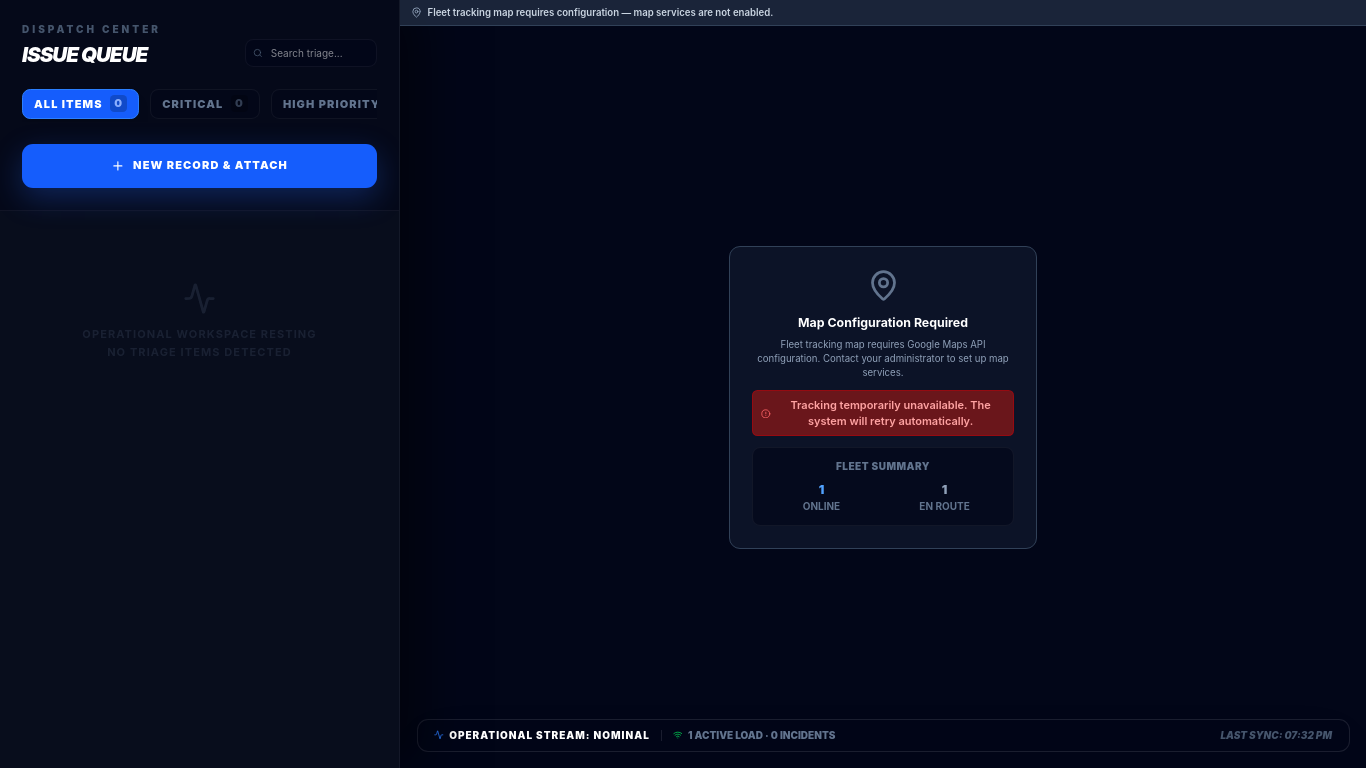
Test: CommandCenterView › opens and closes the New Record dropdown
Click the button "New Record & Attach". click: coordinates (200, 166)
box: [22,144,377,188]
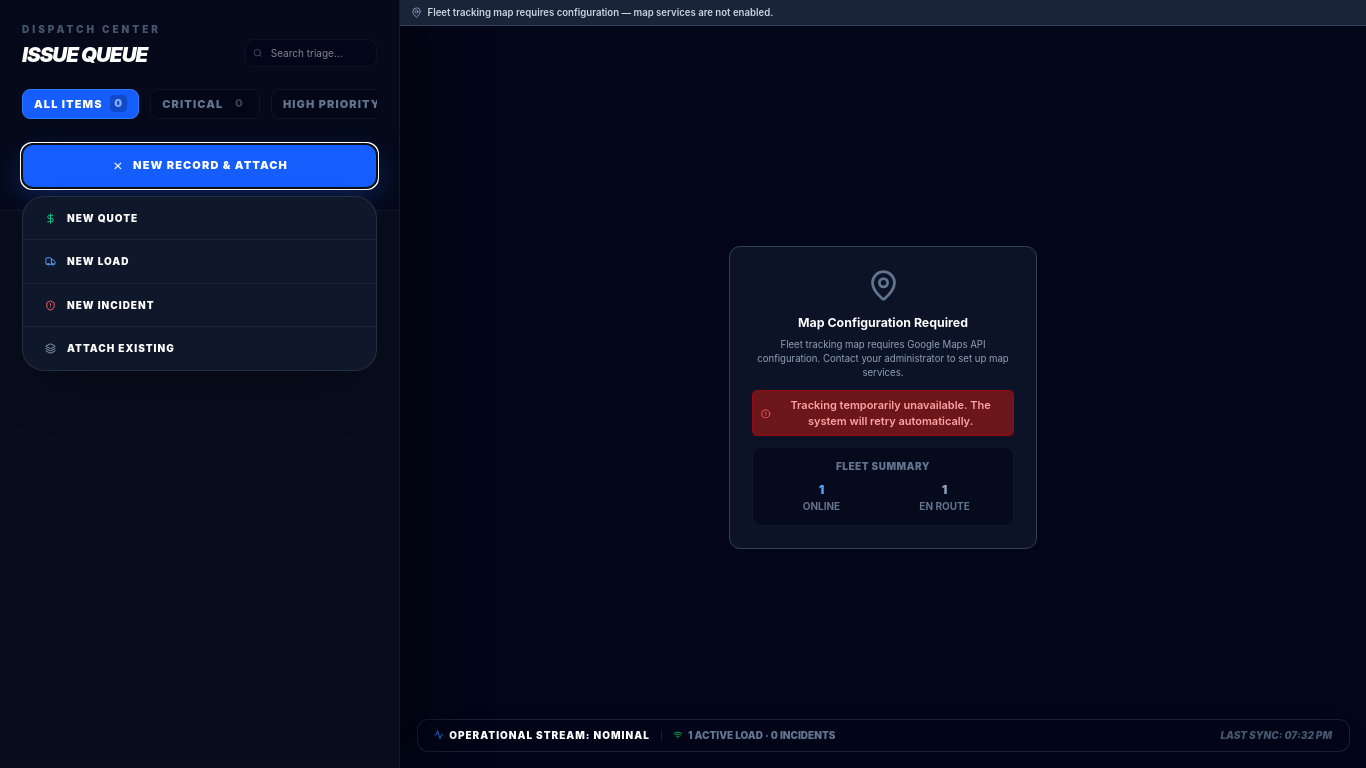
expect the text "New Quote" is shown: met, box [67,210,138,226]
expect the text "New Load" is shown: met, box [67,254,130,269]
expect the text "New Incident" is shown: met, box [67,298,154,312]
